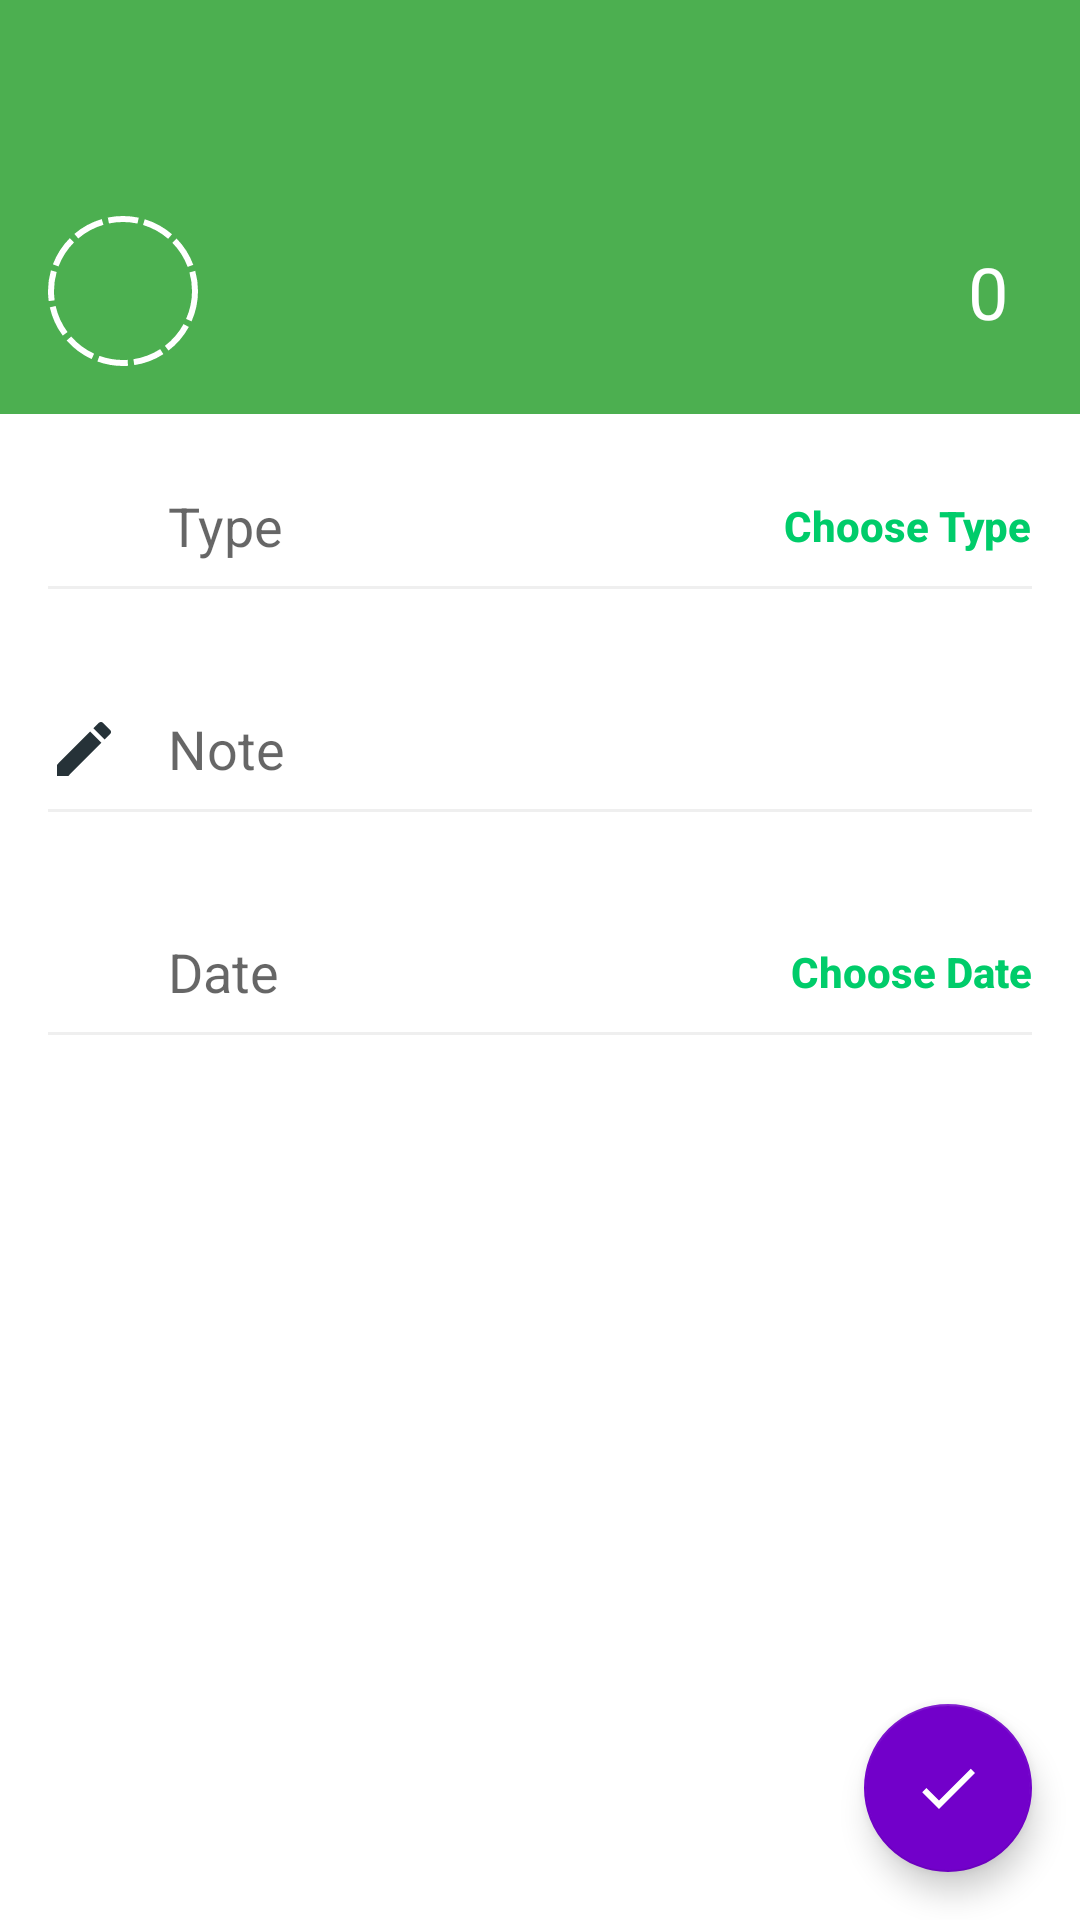

Named icons in this screenshot (1080 × 1920) and their centers, [x,y]:
create: [84,749]
dashed circle: [123,291]
tick: [948,1788]
